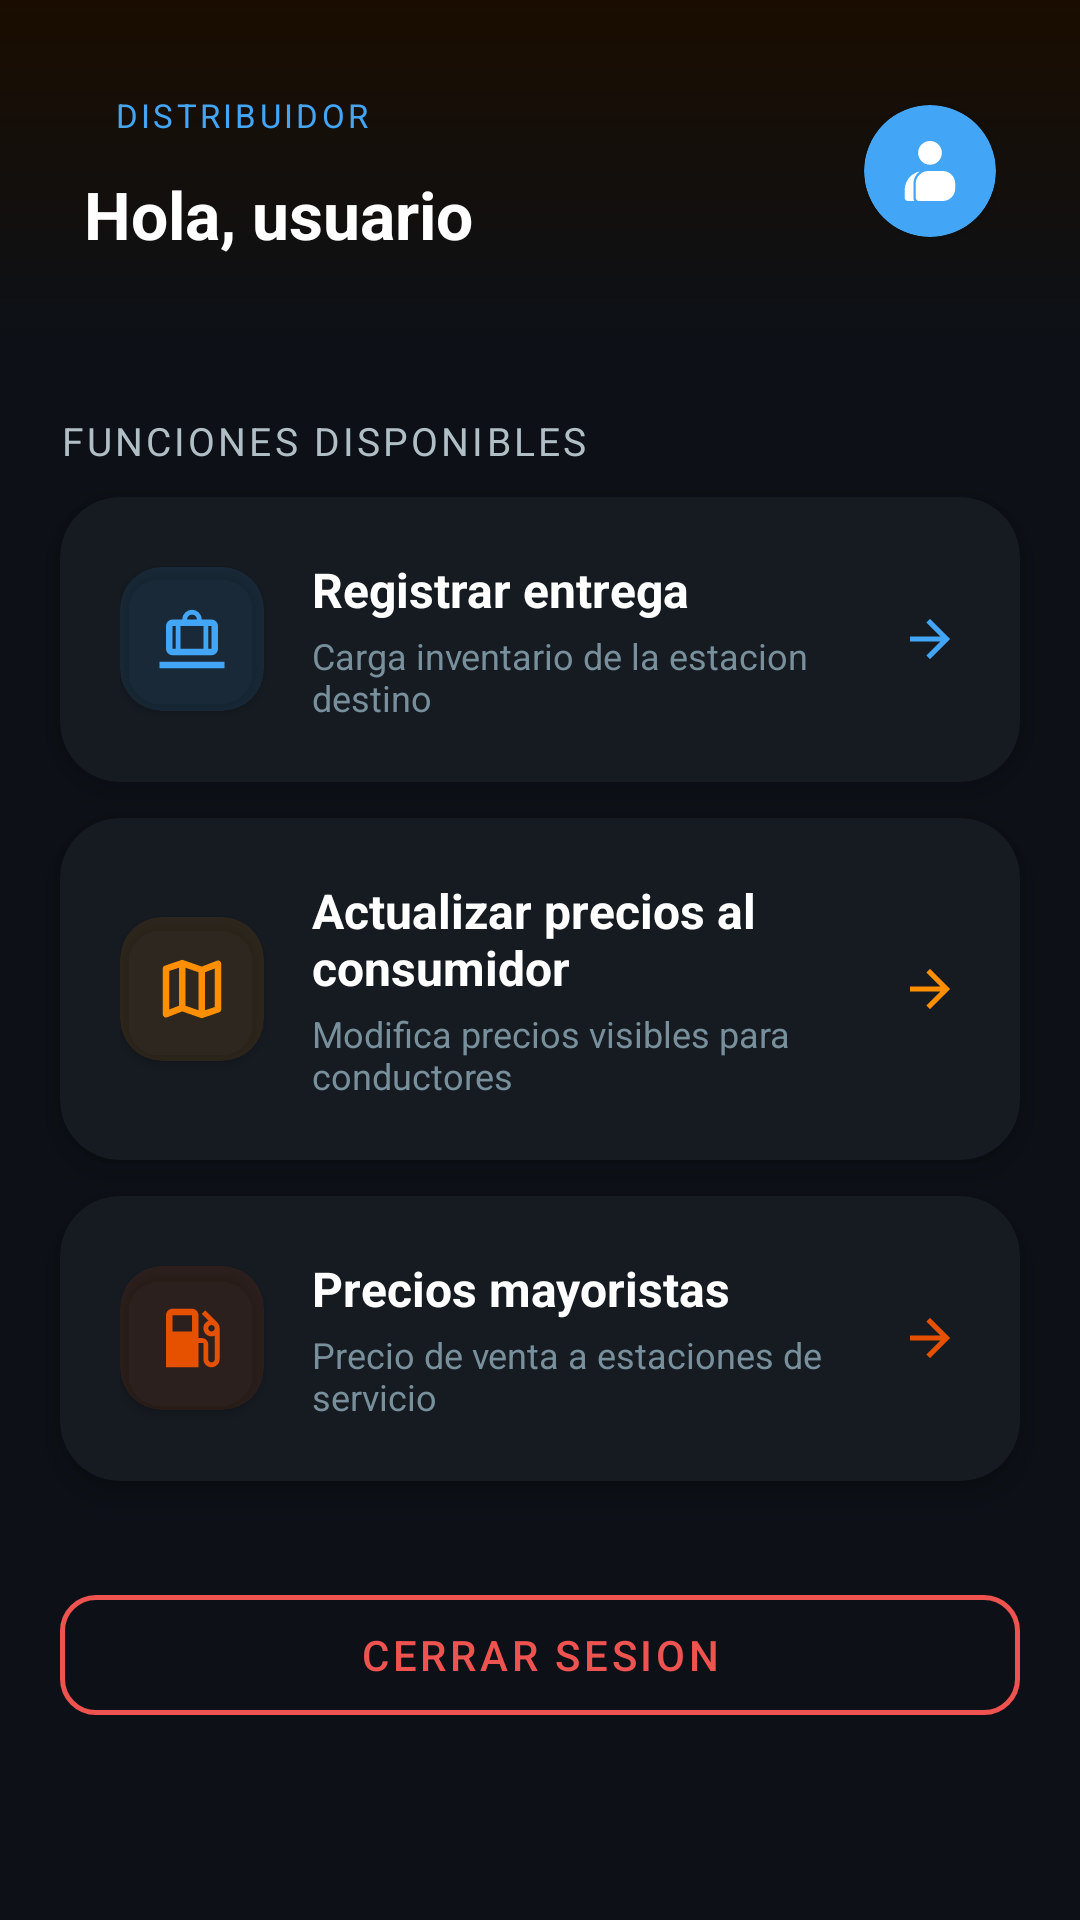

Named icons in this screenshot (1080w x 1920h) and their centers, [x,y]:
arrow forward: [930,639], [930,989], [930,1338]
fuel drop: [193,1338]
inventory: [192,639]
person: [930,171]
